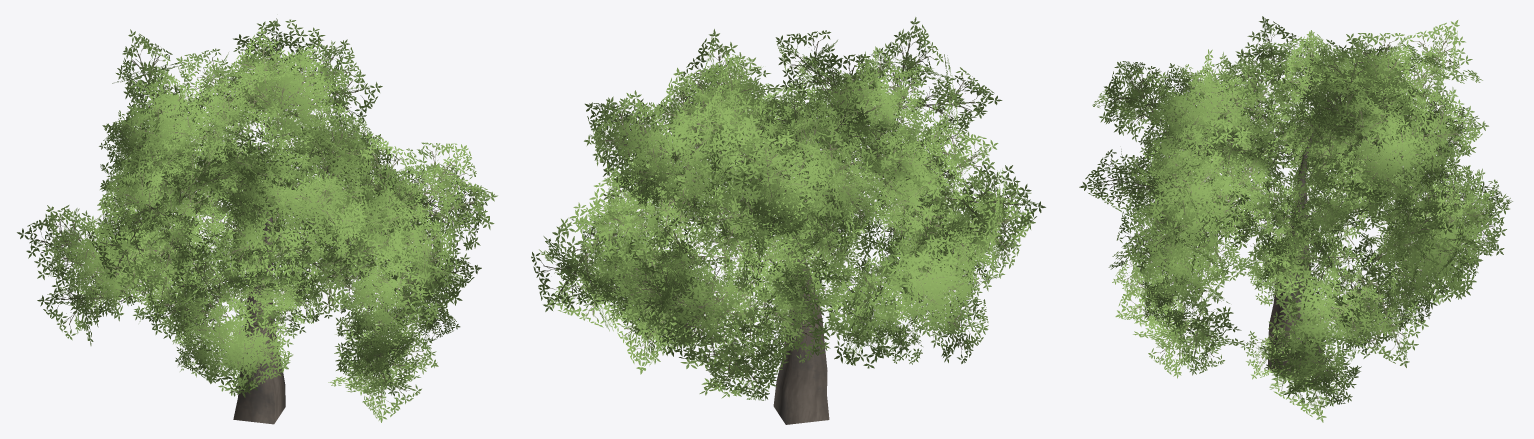
Rendered from tree_Oak_LOD2.fbx.
The picture shows the model from 3 angles, left to right: view 1: azimuth 30°, elevation 25°; view 2: azimuth 150°, elevation 25°; view 3: azimuth 270°, elevation 25°; orthographic projection. The views are drawn at different scales.
Visible parts, largest first — view 1: Oak_LOD2; view 2: Oak_LOD2; view 3: Oak_LOD2.
Part boxes in pixels (x1,y1,x2,y2): Oak_LOD2: [17, 18, 497, 424]; Oak_LOD2: [531, 17, 1045, 424]; Oak_LOD2: [1079, 16, 1512, 422].
Bounding box in the file's own units: 1957 × 1564 × 1812.
